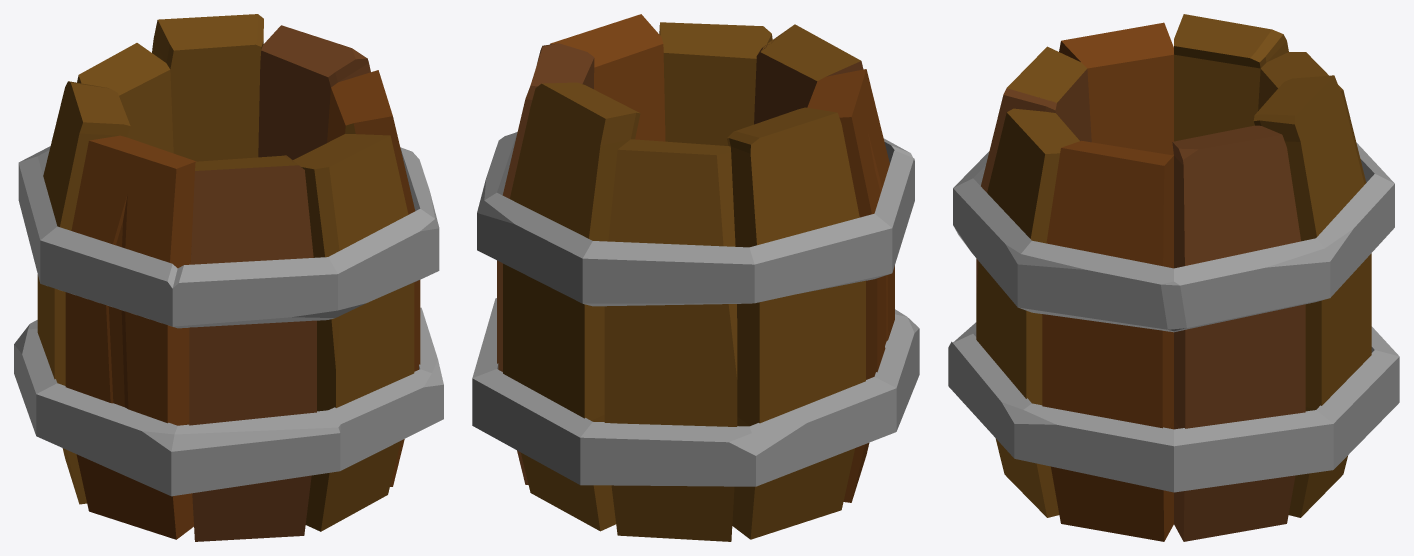
The model's file is BarrelEmpty.fbx.
3 renders of one model, left to right at view 1: azimuth 30°, elevation 25°; view 2: azimuth 150°, elevation 25°; view 3: azimuth 270°, elevation 25°, orthographic. The views are drawn at different scales.
Parts seen in each view (by area): view 1: WoodenPart.001, MetalPart.002; view 2: WoodenPart.001, MetalPart.002; view 3: WoodenPart.001, MetalPart.002.
Part boxes in pixels (box(x1,y1,x2,y2)): WoodenPart.001: box(37, 14, 420, 541); MetalPart.002: box(14, 146, 443, 496); WoodenPart.001: box(497, 14, 894, 541); MetalPart.002: box(472, 132, 919, 486); WoodenPart.001: box(976, 14, 1371, 541); MetalPart.002: box(948, 142, 1399, 492).
Bounding box in the file's own units: 96.13 × 93.75 × 96.13.
